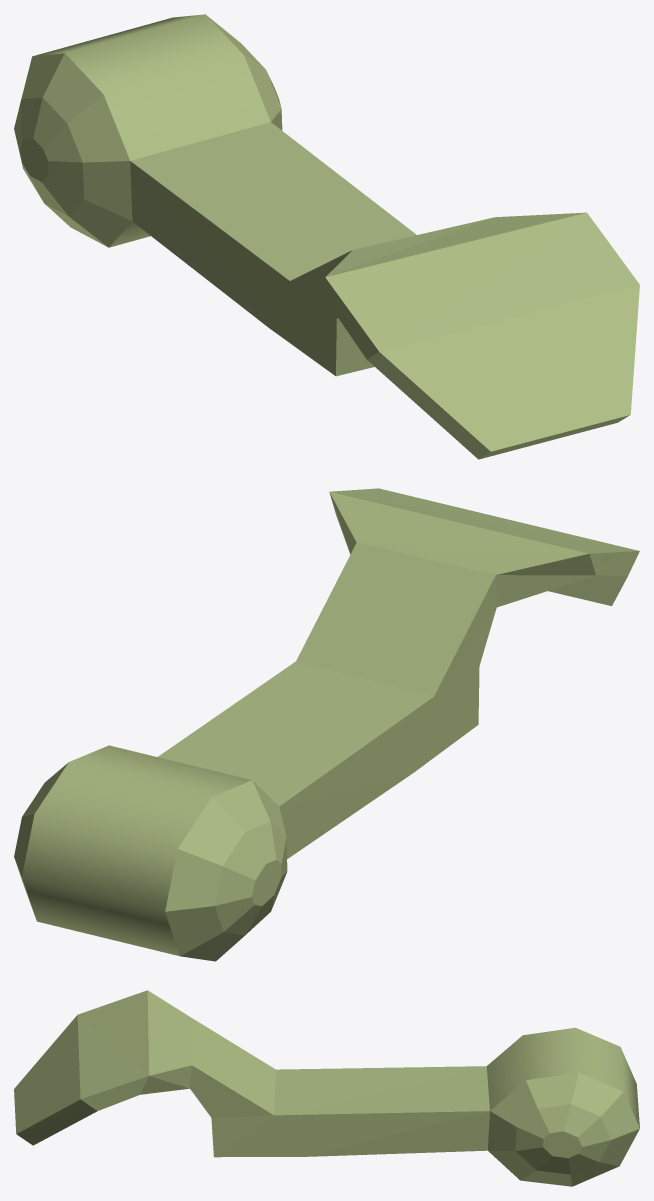
The model's file is SpiderLegLeftFrontA.FBX.
3 views of the same model, one above another, from view 1: azimuth 30°, elevation 25°; view 2: azimuth 150°, elevation 25°; view 3: azimuth 270°, elevation 25° (orthographic). The views are drawn at different scales.
Parts seen in each view (by area): view 1: SpiderLegLeftFrontA; view 2: SpiderLegLeftFrontA; view 3: SpiderLegLeftFrontA.
Part boxes in pixels (bbox=[...]): SpiderLegLeftFrontA: bbox=[14, 14, 639, 459]; SpiderLegLeftFrontA: bbox=[14, 488, 639, 961]; SpiderLegLeftFrontA: bbox=[14, 990, 639, 1186].
Size of the model in its own units: 89.26 by 275 by 63.72.
